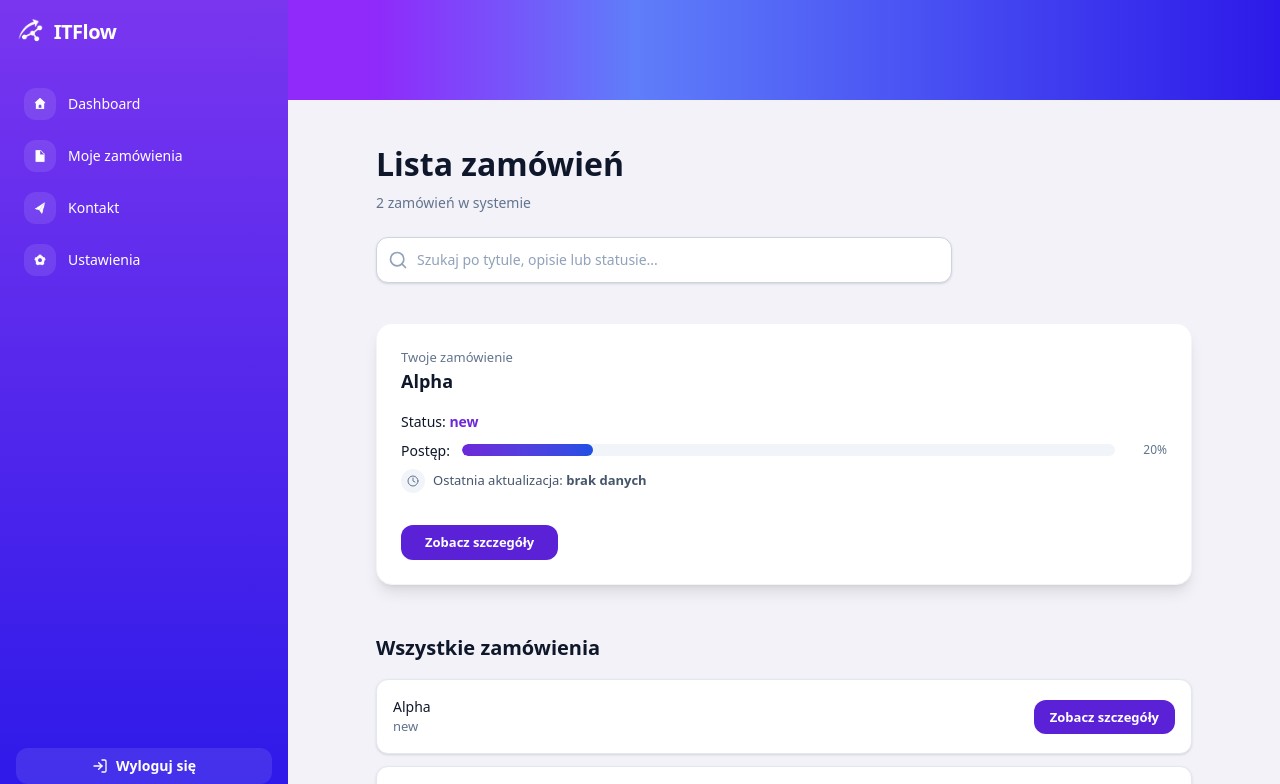
Scenario: OrdersPage › filters orders by search query
Step 1. Type "Beta" into the field with placeholder "Szukaj po tytule, opisie lub statusie..." → (664, 260), box [376, 237, 952, 283]
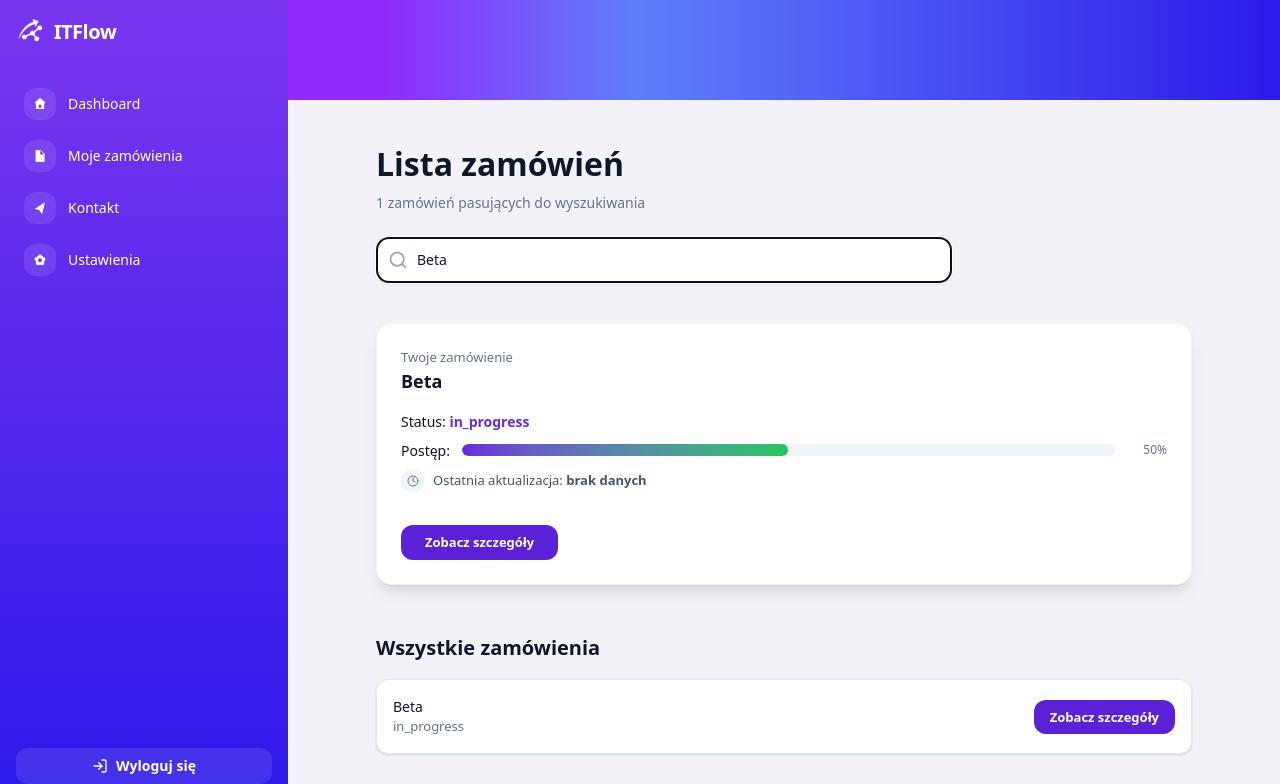
expect the text "Beta" below "Twoje zamówienie" is shown: met, box [401, 368, 442, 392]
expect the text "Alpha" is gone: met
